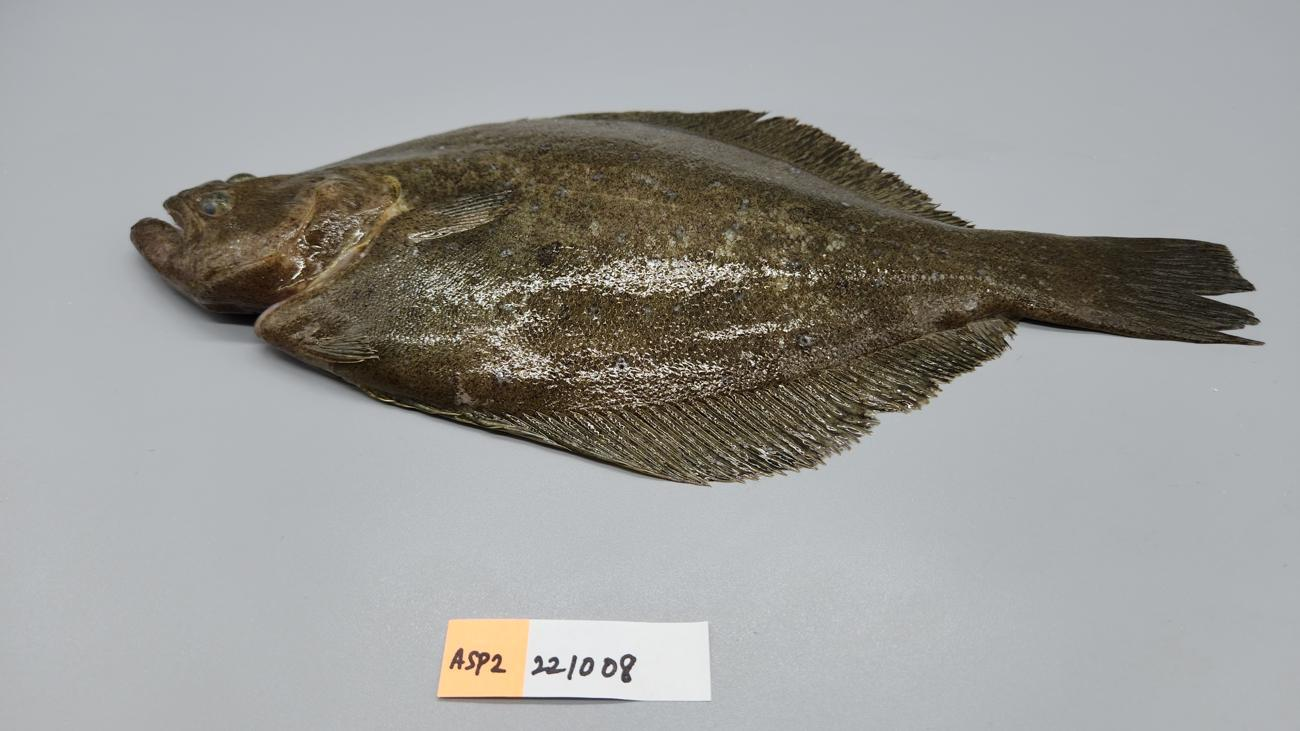SPDYH: (560, 170, 740, 265)
SPOUY: (122, 103, 1270, 490)
